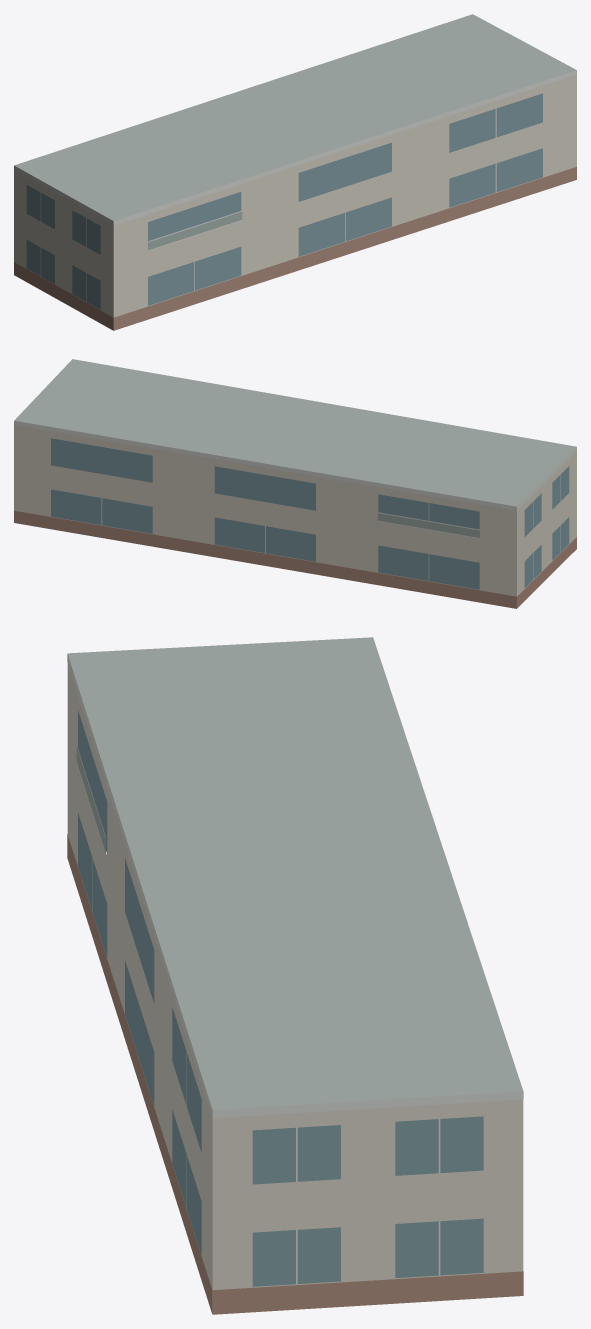
File: survey-upis-32676076.glb
3 views of the same model, one above another, from view 1: azimuth 30°, elevation 25°; view 2: azimuth 150°, elevation 25°; view 3: azimuth 270°, elevation 25° (orthographic). The views are drawn at different scales.
Parts seen in each view (by area): view 1: survey-upis-32676076.tmp; view 2: survey-upis-32676076.tmp; view 3: survey-upis-32676076.tmp.
Boxes of the visible parts, x1,y1,x2,y2 form: survey-upis-32676076.tmp: (14,14,576,330); survey-upis-32676076.tmp: (14,359,576,608); survey-upis-32676076.tmp: (67,637,523,1314).
Bounding box in the file's own units: 30.26 × 6.1 × 12.34.
